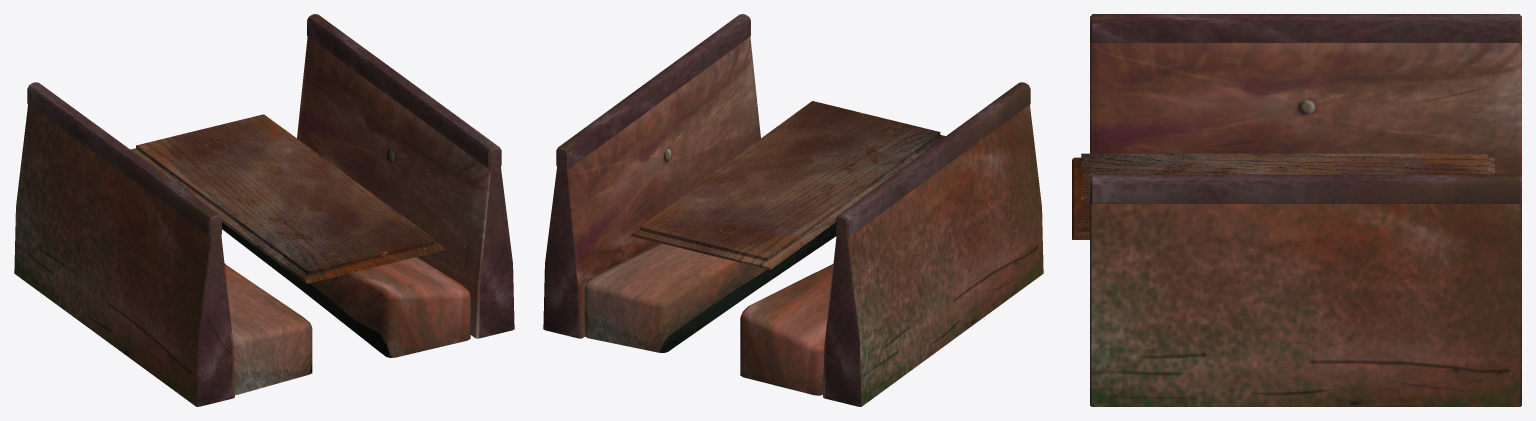
File: Booth01.fbx
3 views of the same model, side by side, from view 1: azimuth 30°, elevation 25°; view 2: azimuth 150°, elevation 25°; view 3: azimuth 270°, elevation 25° (orthographic). The views are drawn at different scales.
Parts seen in each view (by area): view 1: Empty_Mesh; view 2: Empty_Mesh; view 3: Empty_Mesh.
Boxes of the visible parts, bbox=[...] form: Empty_Mesh: bbox=[14, 14, 514, 406]; Empty_Mesh: bbox=[543, 14, 1043, 406]; Empty_Mesh: bbox=[1072, 14, 1521, 406].
Size of the model in its own units: 262 by 147 by 273.
